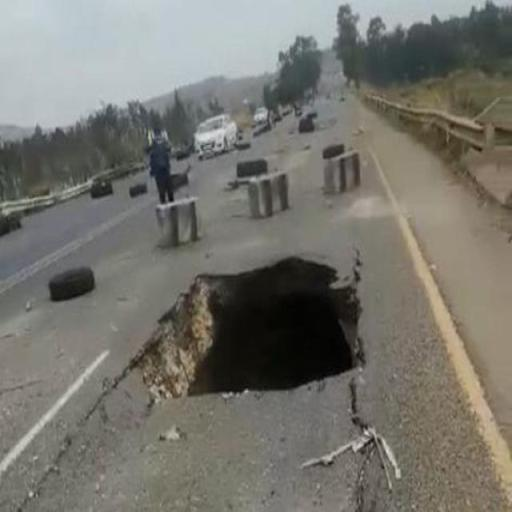Concentric_Crack: (140, 256, 360, 399)
